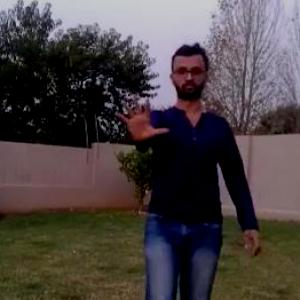follow_hand: (111, 90, 170, 144)
